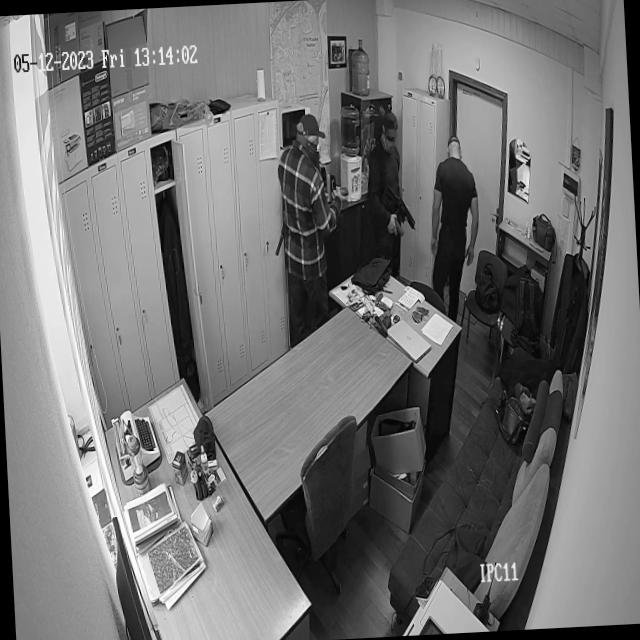gun: (398, 198, 417, 234), (394, 215, 404, 242)
person: (276, 113, 334, 323), (428, 134, 480, 322)
person with a gun: (366, 114, 406, 282)
